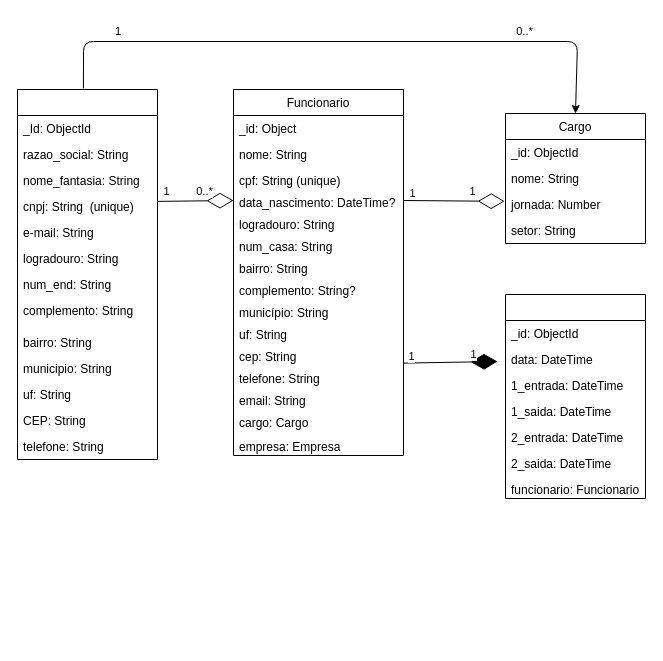
Image size: 663x661. Some labels were removed from this diagram. Each missing label, with the box of its shape:
Empresa: (16, 88, 158, 460)
Ponto: (504, 294, 646, 498)
